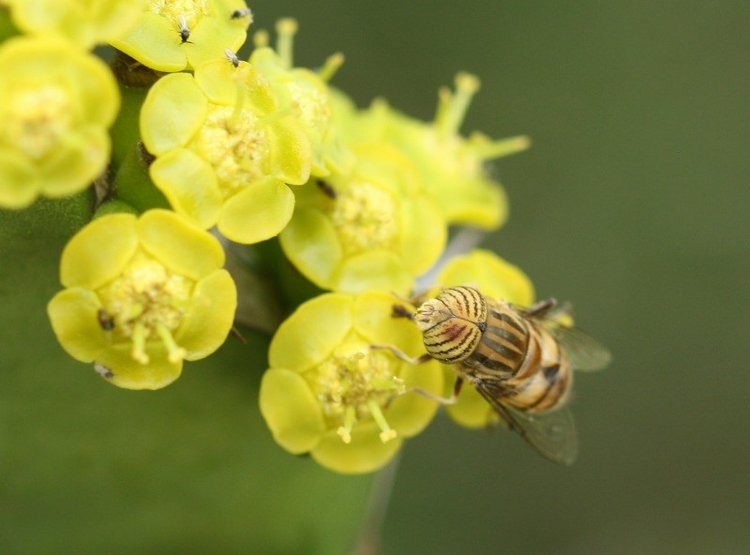green bottles flies: (394, 262, 624, 473)
